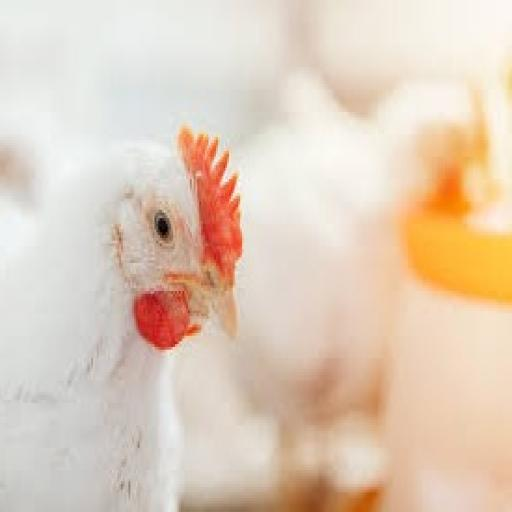healthy: (117, 149, 241, 351)
